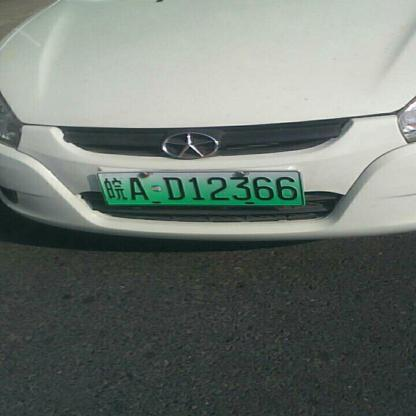lp: (96, 172, 304, 204)
